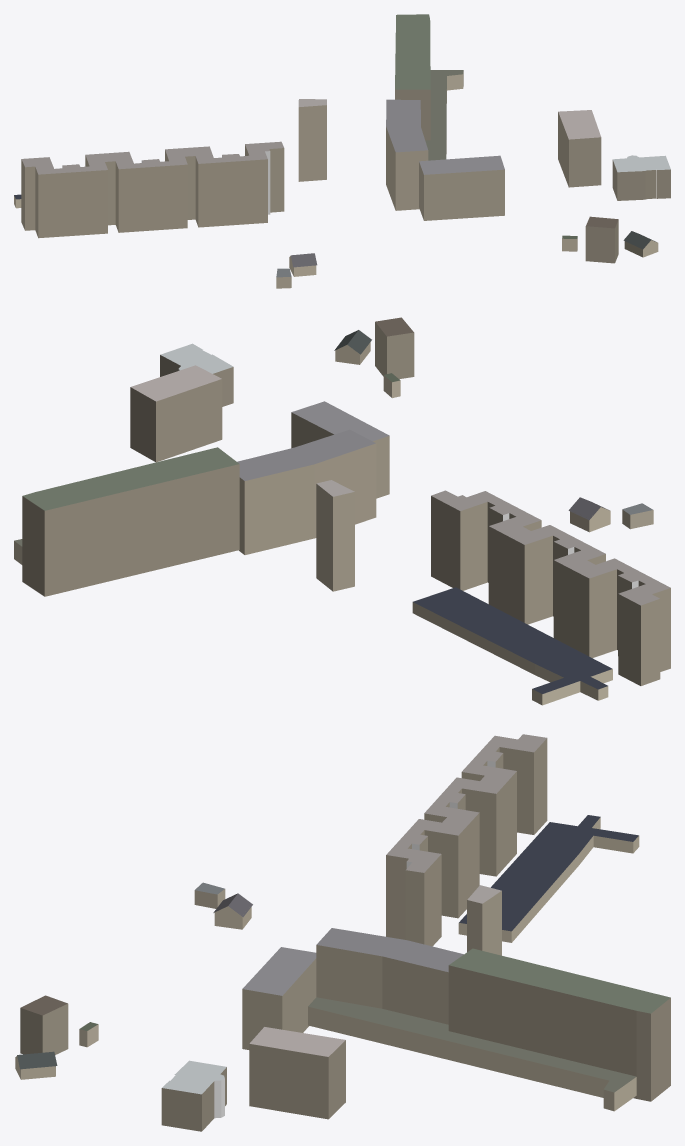
The picture shows the model from 3 angles, top to bottom: view 1: azimuth 30°, elevation 25°; view 2: azimuth 150°, elevation 25°; view 3: azimuth 270°, elevation 25°; orthographic projection. The views are drawn at different scales.
Parts seen in each view (by area): view 1: tuile; view 2: tuile; view 3: tuile.
Boxes of the visible parts, box(x1,y1,x2,y2) form: tuile: box(14, 14, 670, 288); tuile: box(14, 317, 670, 705); tuile: box(15, 734, 670, 1131).
Size of the model in its own units: 223 by 30.72 by 188.
